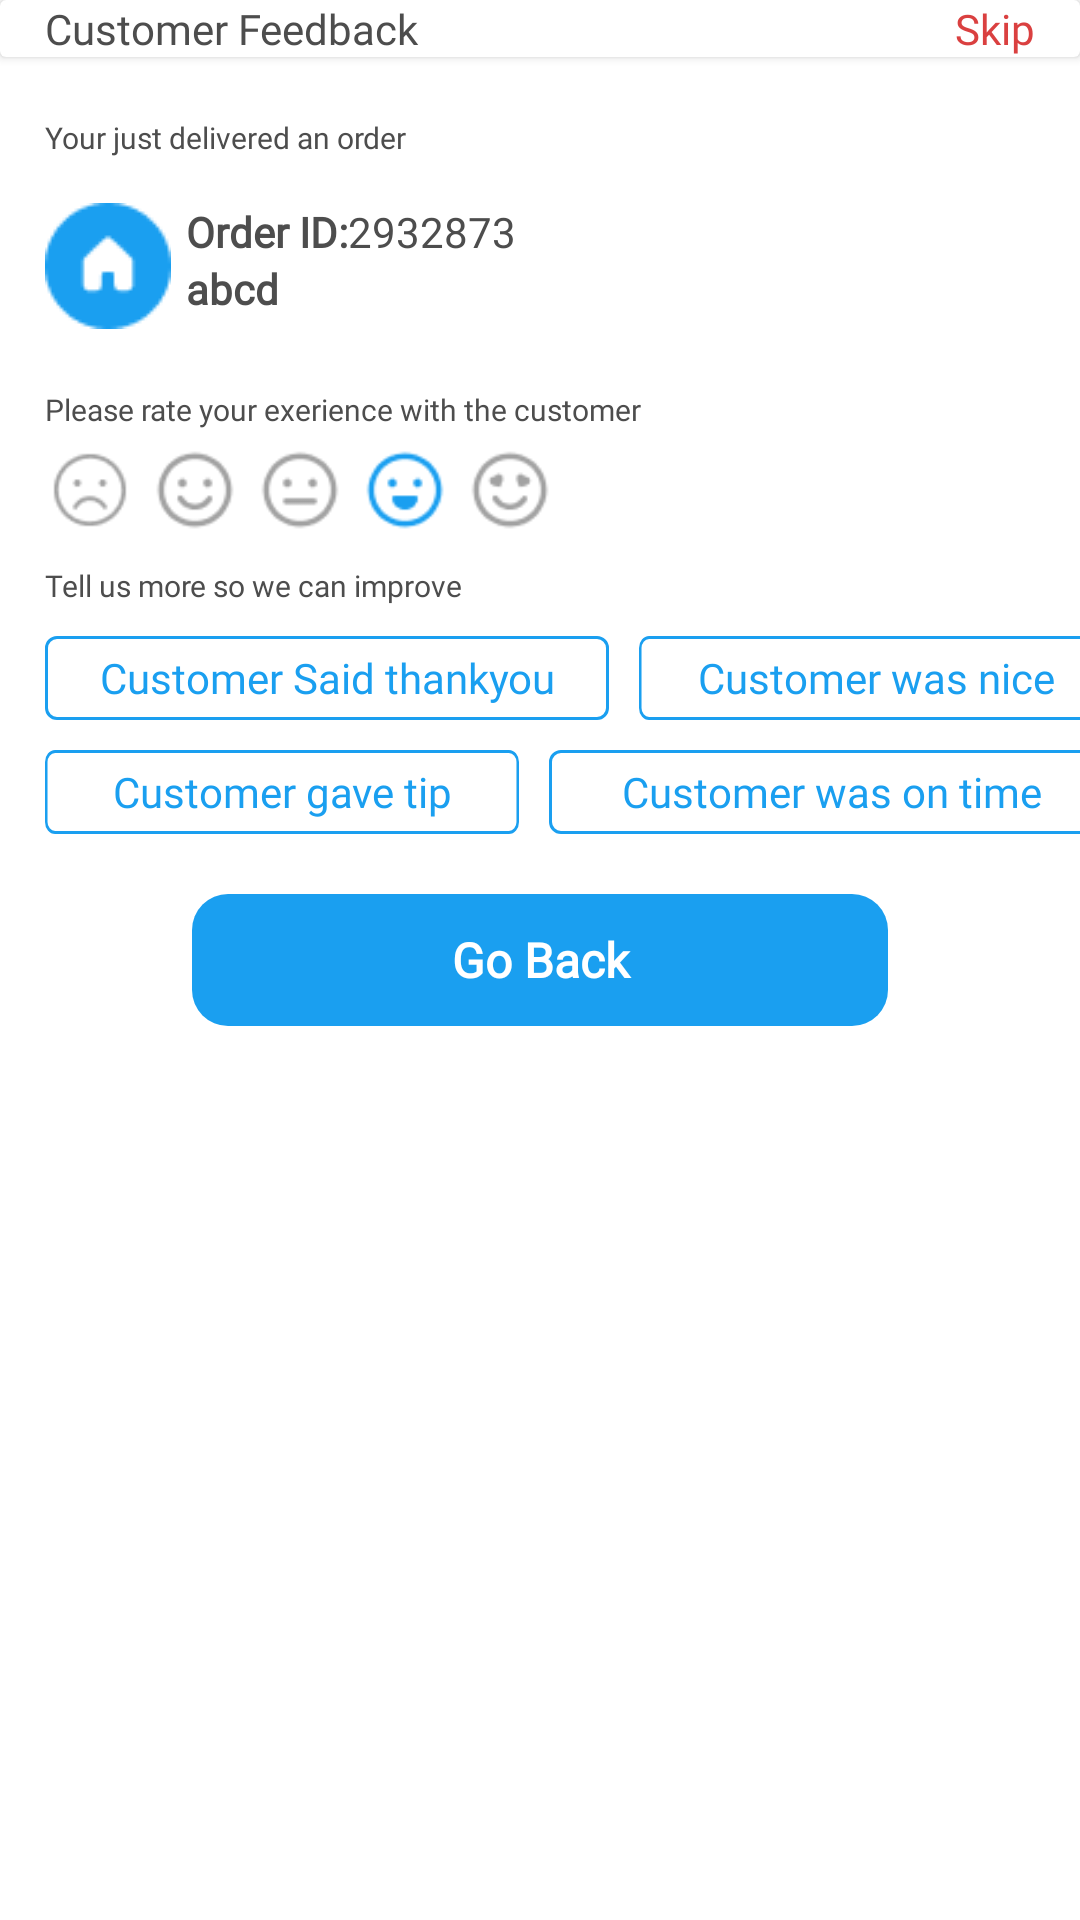

Named icons in this screenshot (1080x1920) and their centers, (x,y):
home: (108,266)
sad: (90,490)
smilemeh: (300,490)
